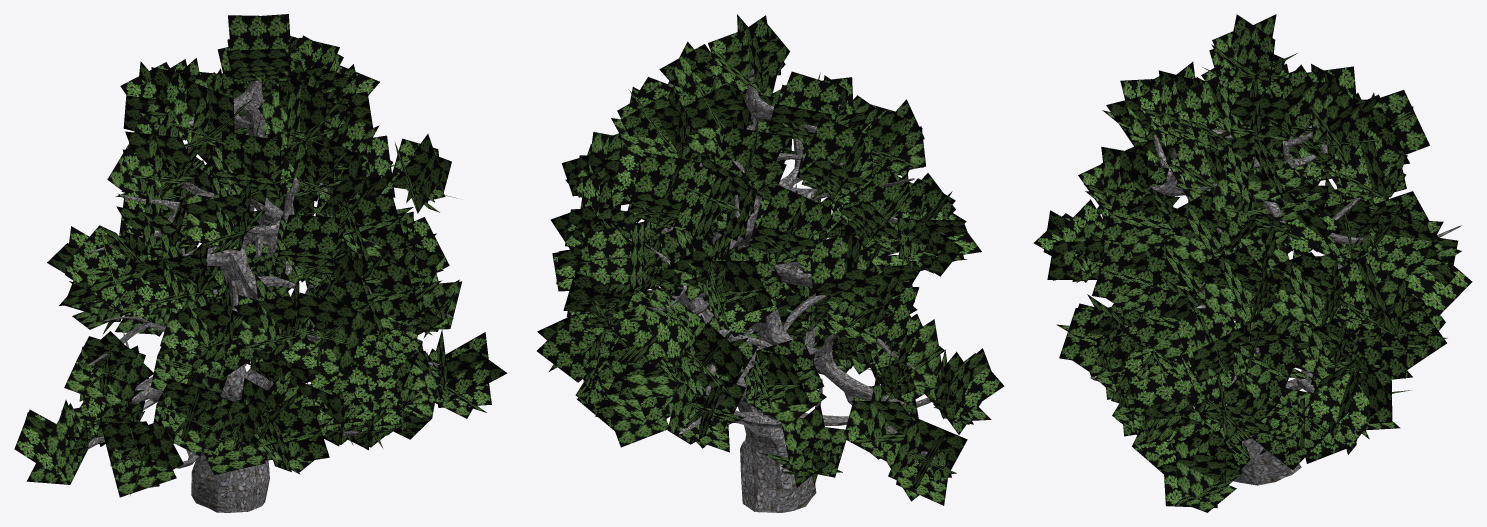
Rendered from tree.gltf.
3 views of the same model, side by side, from view 1: azimuth 30°, elevation 25°; view 2: azimuth 150°, elevation 25°; view 3: azimuth 270°, elevation 25° (orthographic). The views are drawn at different scales.
Visible parts, largest first — view 1: Oak Leaves, Oak Tree; view 2: Oak Leaves, Oak Tree; view 3: Oak Leaves, Oak Tree.
Boxes of the visible parts, x1,y1,x2,y2 form: Oak Leaves: (14, 14, 507, 497); Oak Tree: (87, 80, 453, 512); Oak Leaves: (537, 14, 1004, 505); Oak Tree: (628, 69, 945, 512); Oak Leaves: (1033, 14, 1472, 512); Oak Tree: (1090, 125, 1461, 485).
Size of the model in its own units: 9.72 by 10.21 by 8.69.
Materials: 2 (2 with a texture image).
